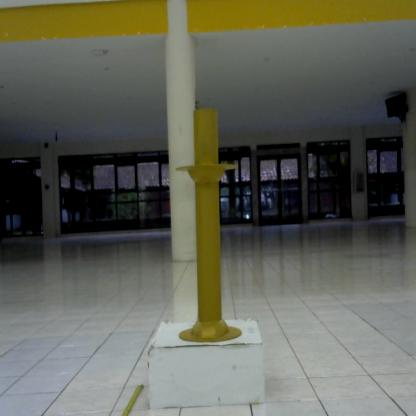pole: (169, 109, 251, 350)
